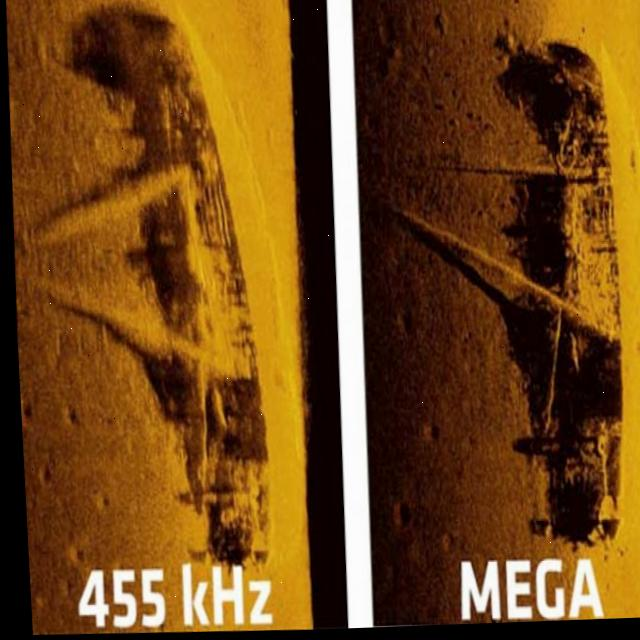shipwreck: (19, 0, 278, 574), (388, 28, 634, 554)
